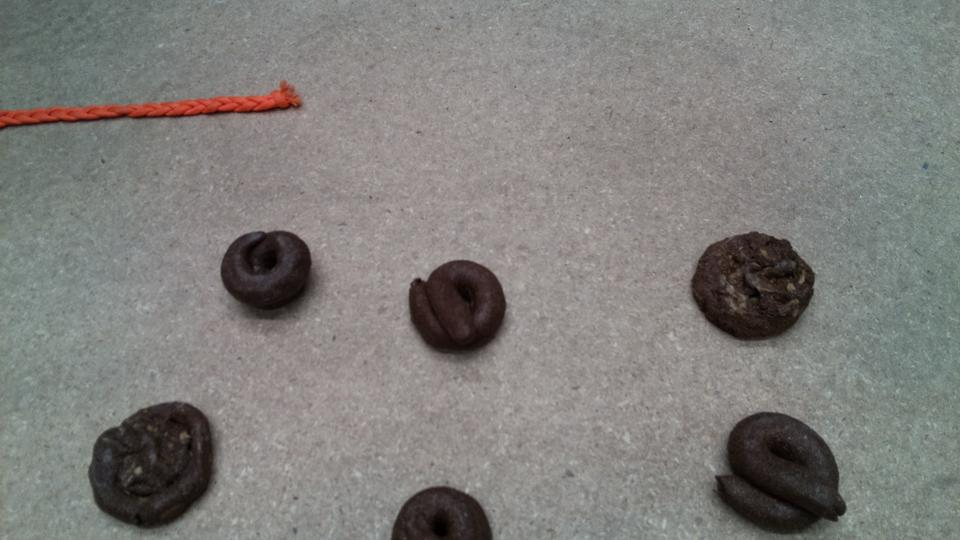poop: (85, 396, 218, 530), (711, 408, 850, 535), (688, 229, 820, 343), (407, 256, 510, 357), (217, 228, 313, 316), (380, 482, 498, 540)
rope: (1, 80, 311, 133)
